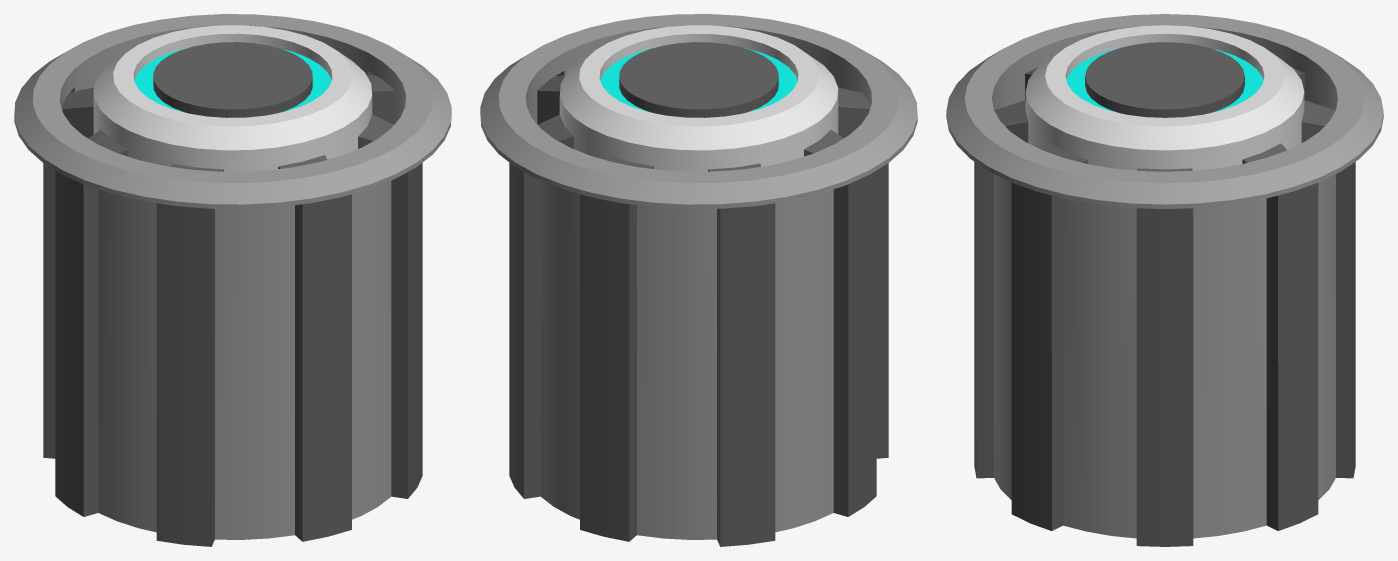
File: SM_DroneElevator.fbx
3 renders of one model, left to right at view 1: azimuth 30°, elevation 25°; view 2: azimuth 150°, elevation 25°; view 3: azimuth 270°, elevation 25°, orthographic.
Parts seen in each view (by area): view 1: DroneElevatorShaft, DroneElevator; view 2: DroneElevatorShaft, DroneElevator; view 3: DroneElevatorShaft, DroneElevator.
Boxes of the visible parts, left/top/right/bottom form: DroneElevatorShaft: left=14, top=14, right=451, bottom=546; DroneElevator: left=61, top=25, right=394, bottom=171; DroneElevatorShaft: left=480, top=14, right=917, bottom=546; DroneElevator: left=537, top=25, right=870, bottom=171; DroneElevatorShaft: left=946, top=14, right=1383, bottom=546; DroneElevator: left=994, top=25, right=1335, bottom=171.
Bounding box in the file's own units: 5.45 × 5.37 × 5.45.
Materials: 1 (1 with a texture image).
